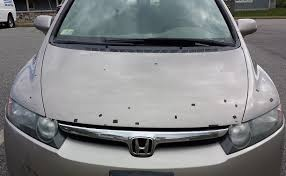Scratch: (173, 97, 238, 123), (71, 107, 141, 127)
